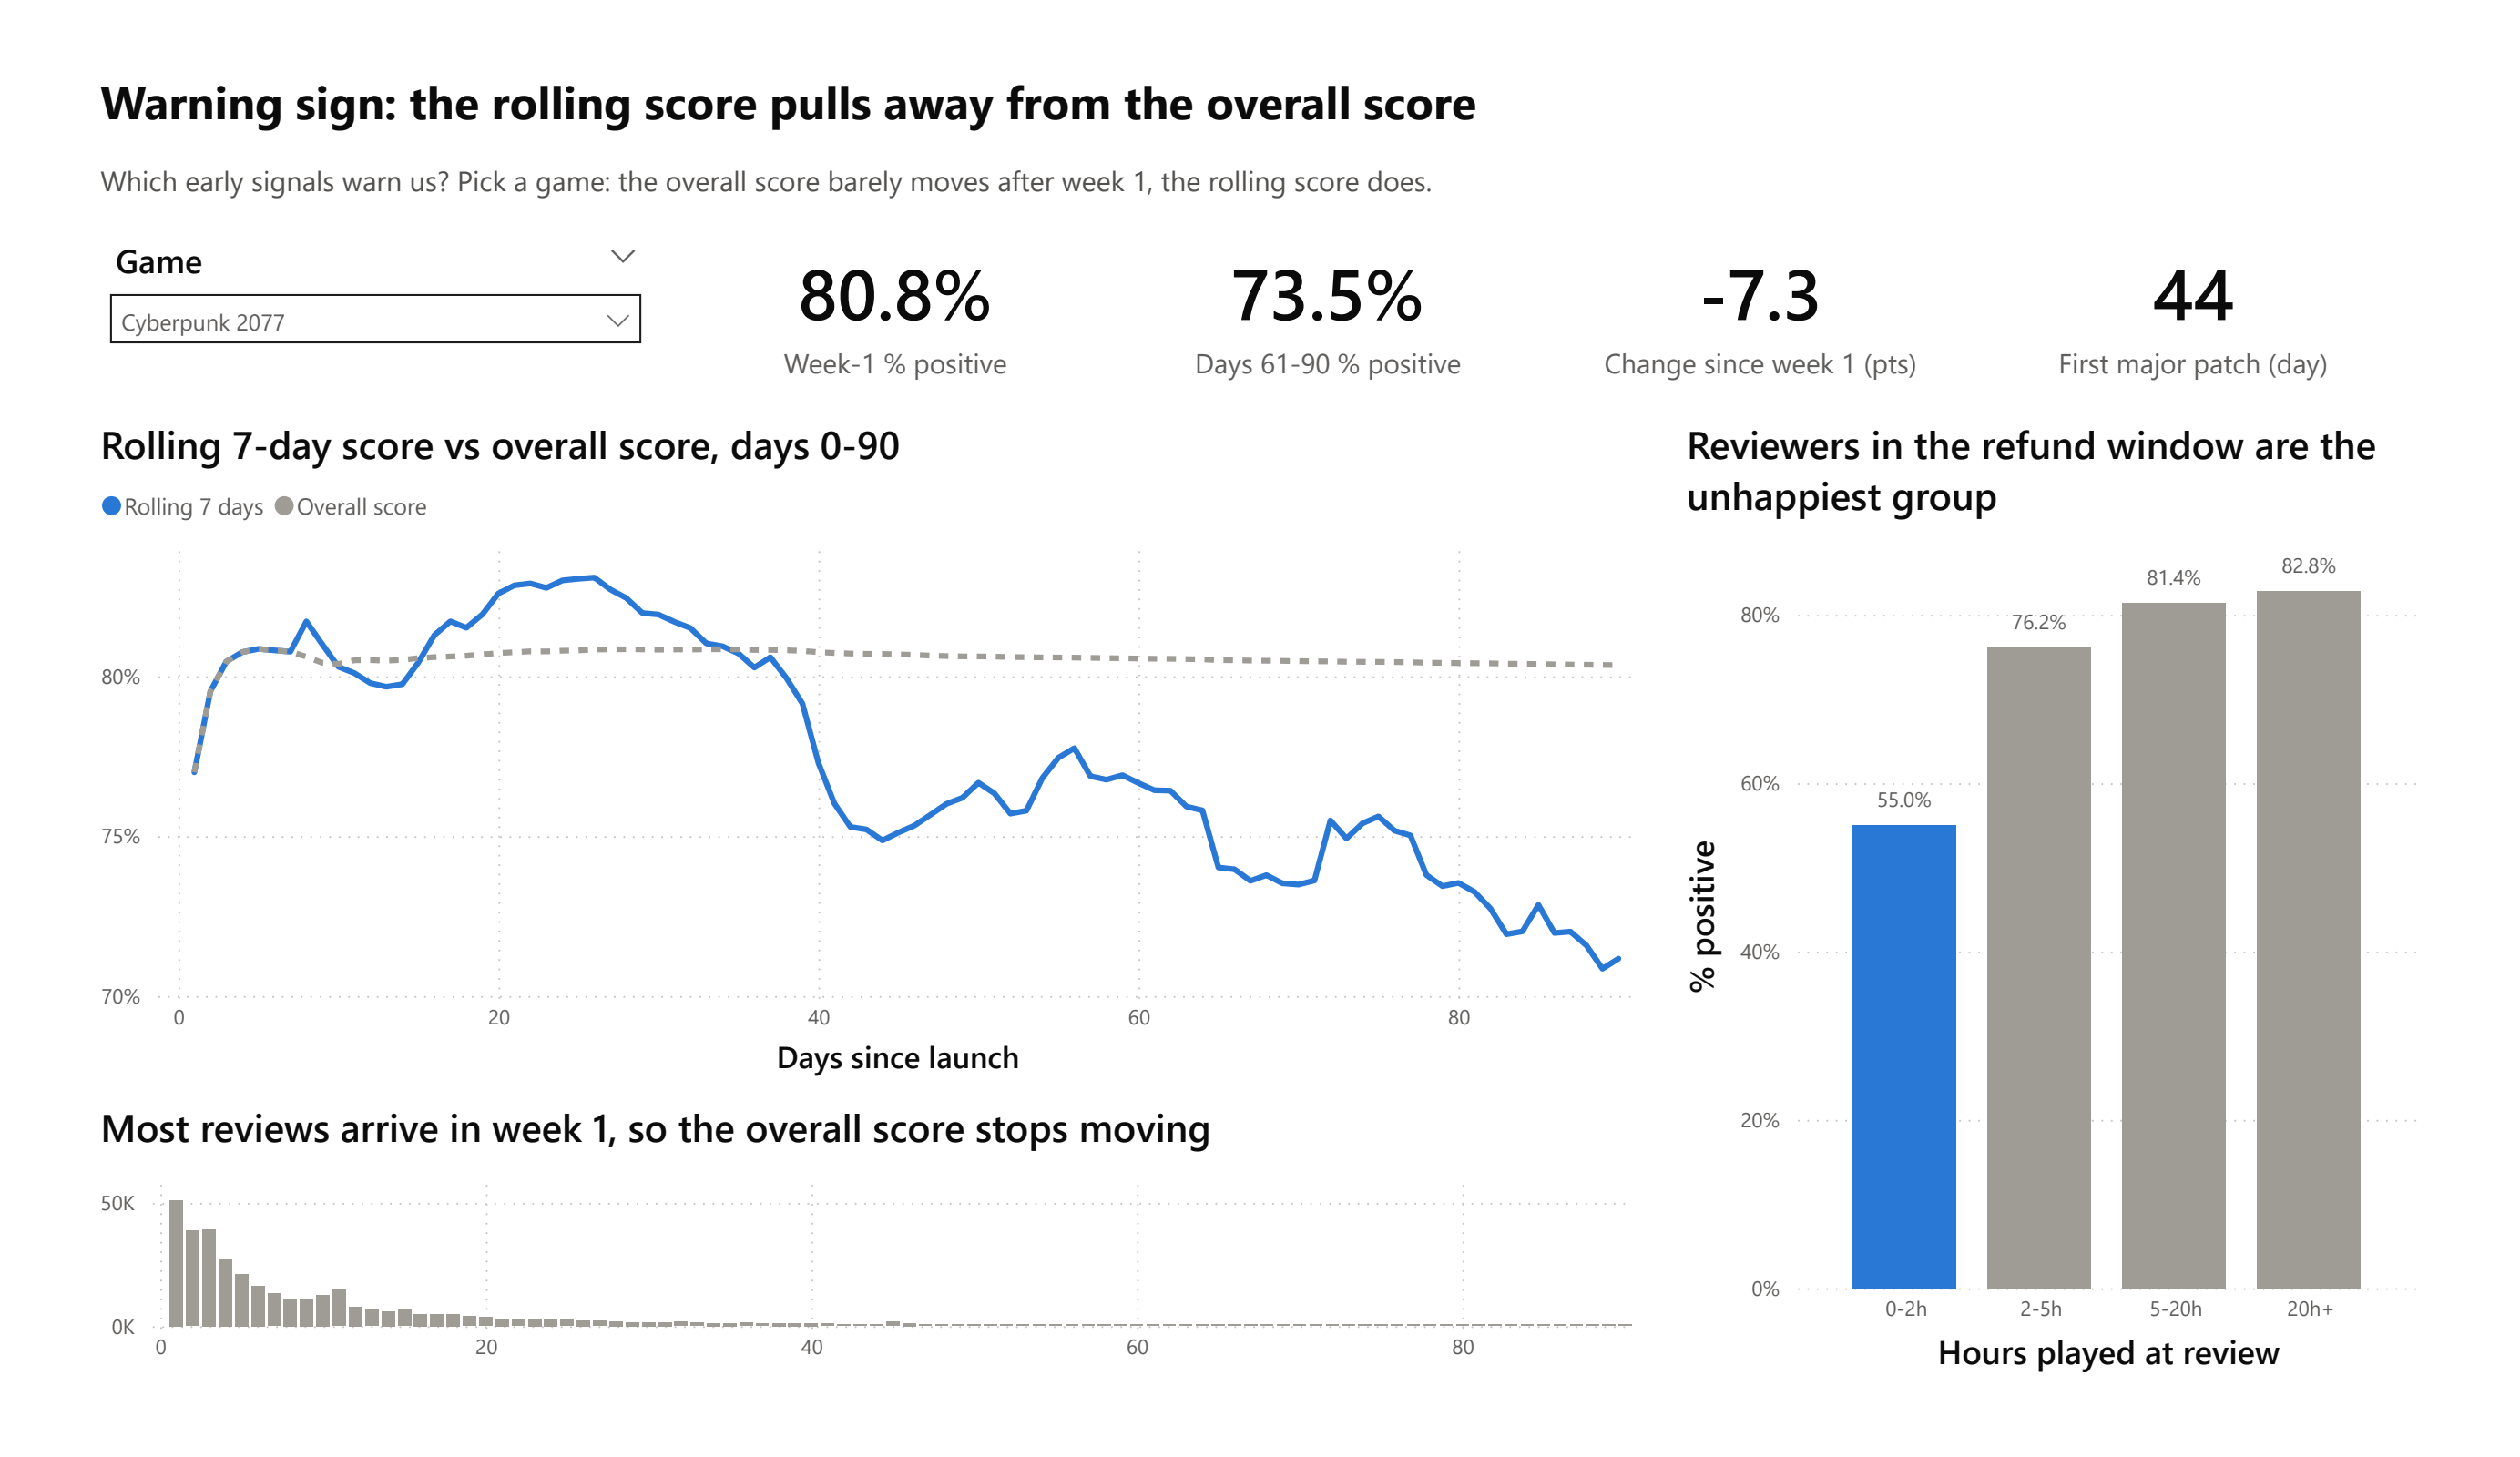

The dashboard page shown, as its layout file describes it:
{"tool":"powerbi","page":{"name":"Launch curve","canvas":[1280,720],"ordinal":1},"visuals":[{"type":"textbox","box":[24,8,900,52],"z":1000},{"type":"textbox","box":[24,56,900,34],"z":2000},{"type":"slicer","fields":{"Values":["dim_game.game"]},"box":[24,96,300,88],"z":3000},{"type":"card","fields":{"Values":["_Measures.Week-1 % Positive"]},"box":[340,96,216,88],"z":4000},{"type":"card","fields":{"Values":["_Measures.Recent % Positive (days 61-90)"]},"box":[568,96,216,88],"z":5000},{"type":"card","fields":{"Values":["_Measures.Recent vs Week 1 (pts)"]},"box":[796,96,216,88],"z":6000},{"type":"card","fields":{"Values":["Sum(dim_game.patch_day)"]},"box":[1024,96,216,88],"z":7000},{"type":"lineChart","title":"Rolling 7-day score vs overall score, days 0-90","fields":{"Category":["dim_day.day_n"],"Y":["_Measures.% Positive (rolling 7 days)","_Measures.% Positive (cumulative)"]},"box":[24,196,820,352],"z":8000},{"type":"clusteredColumnChart","title":"Most reviews arrive in week 1, so the overall score stops moving","fields":{"Category":["dim_day.day_n"],"Y":["_Measures.Reviews"]},"box":[24,556,820,148],"z":9000},{"type":"clusteredColumnChart","title":"Reviewers in the refund window are the unhappiest group","fields":{"Category":["dim_playtime.playtime_bucket"],"Y":["_Measures.% Positive"]},"box":[860,196,396,508],"z":10000}]}

Visuals, with their boxes on the page's 1280x720 design canvas (x1, y1, x2, y2). These are canvas units, not pixel positions in the 2520x1457 screenshot, which may show the page scaled, cropped or inside an application window:
textbox: l=24, t=8, r=924, b=60
textbox: l=24, t=56, r=924, b=90
slicer - dim_game.game: l=24, t=96, r=324, b=184
card - _Measures.Week-1 % Positive: l=340, t=96, r=556, b=184
card - _Measures.Recent % Positive (days 61-90): l=568, t=96, r=784, b=184
card - _Measures.Recent vs Week 1 (pts): l=796, t=96, r=1012, b=184
card - Sum(dim_game.patch_day): l=1024, t=96, r=1240, b=184
"Rolling 7-day score vs overall score, days 0-90" lineChart: l=24, t=196, r=844, b=548
"Most reviews arrive in week 1, so the overall score stops moving" clusteredColumnChart: l=24, t=556, r=844, b=704
"Reviewers in the refund window are the unhappiest group" clusteredColumnChart: l=860, t=196, r=1256, b=704
